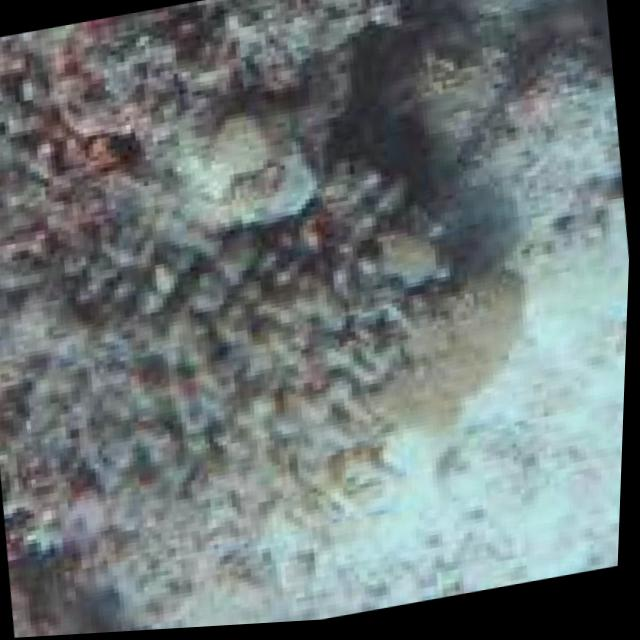Dead Coral: (4, 193, 432, 528)
